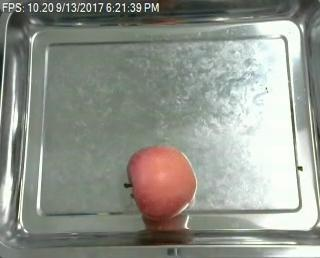apple: (124, 144, 201, 223)
